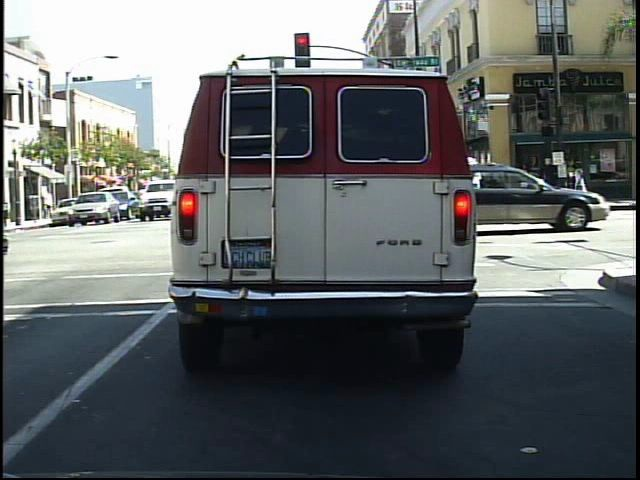person: (553, 146, 577, 210), (537, 154, 561, 211), (514, 157, 538, 211), (573, 157, 594, 194)
